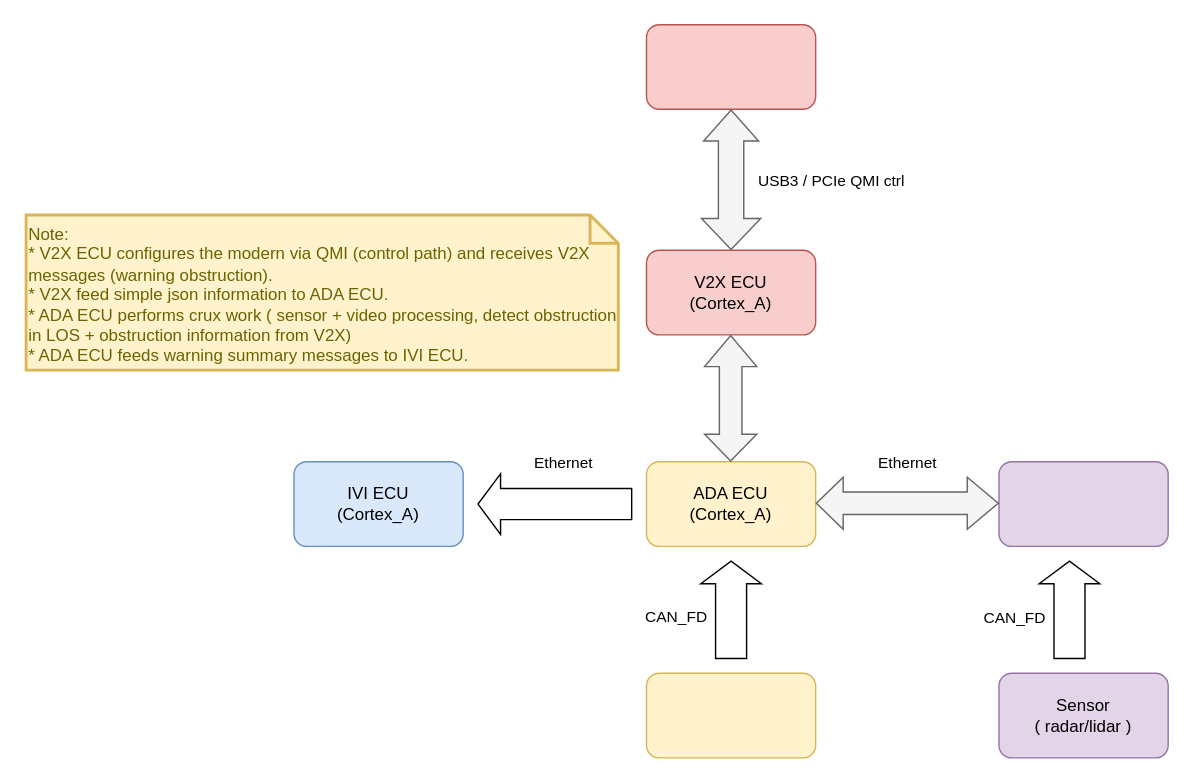
Image size: 1193x783. Some labels were removed from this diagram. Here are the shapes that lost their labels. From the top down, the box of each, then its label:
(645, 23, 816, 109): Quectel Modern
(998, 460, 1168, 546): Cortex-M MCU Classic AUTOSAR
(645, 672, 816, 758): Camera (live feed video)
